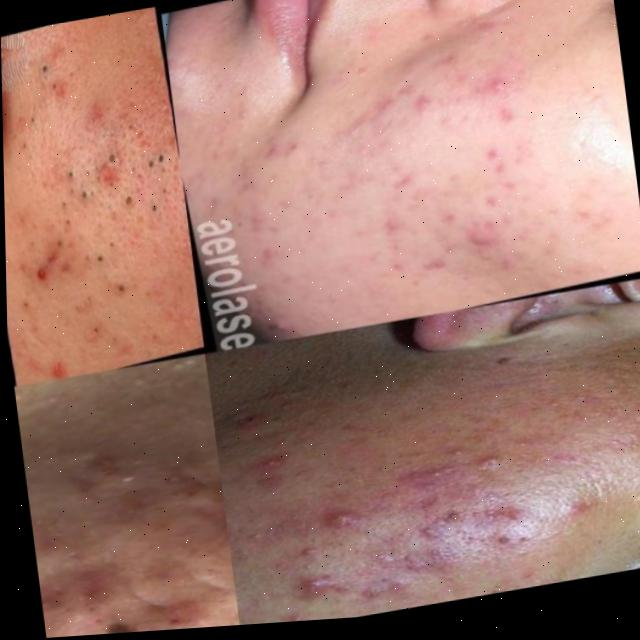Acne: (313, 71, 576, 322), (299, 422, 517, 621), (28, 87, 175, 326), (31, 496, 205, 639)
